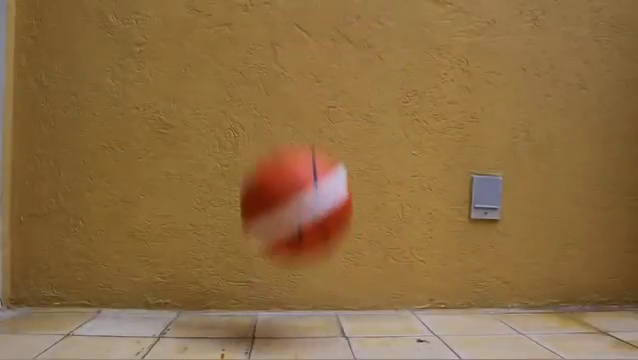ball: (239, 142, 354, 269)
